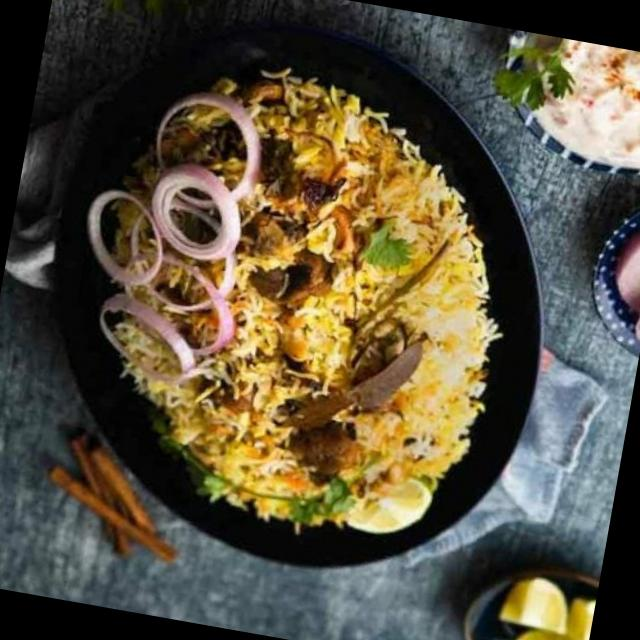Biryani: (32, 31, 549, 566)
